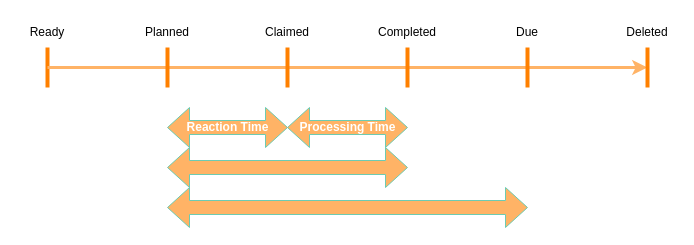
Some shapes in this 694 by 245 pixel diagram are drawn without their labels. Each missing label, with the centre of its shape:
"Lead Time" goes at (x=287, y=167).
"Service Level" goes at (x=347, y=207).
